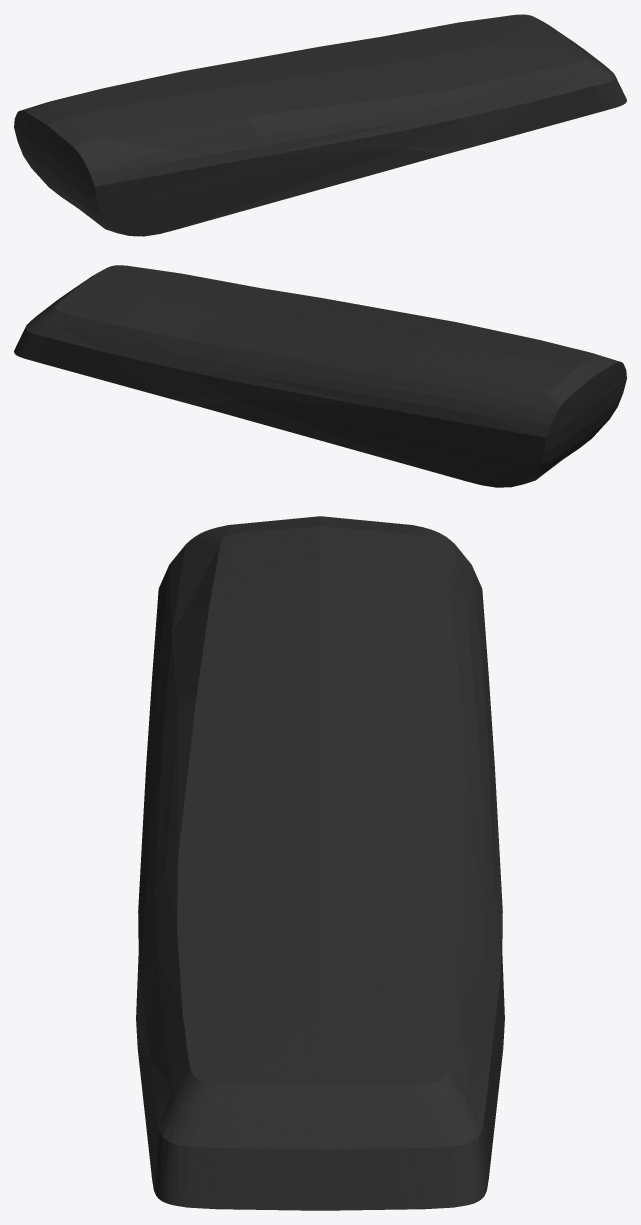
The model's file is SL_11_Micro.glb.
The picture shows the model from 3 angles, top to bottom: view 1: azimuth 30°, elevation 25°; view 2: azimuth 150°, elevation 25°; view 3: azimuth 270°, elevation 25°; orthographic projection. The views are drawn at different scales.
Visible parts, largest first — view 1: Siteco SL 11 micro; view 2: Siteco SL 11 micro; view 3: Siteco SL 11 micro.
Part boxes in pixels (left/top/right/bottom): Siteco SL 11 micro: left=14, top=14, right=626, bottom=236; Siteco SL 11 micro: left=14, top=265, right=626, bottom=487; Siteco SL 11 micro: left=136, top=516, right=504, bottom=1210.
Bounding box in the file's own units: 0.5974 × 0.1159 × 0.1744.
Materials: 3 (2 with a texture image).
